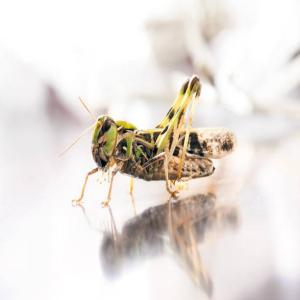locust: (68, 68, 240, 213)
